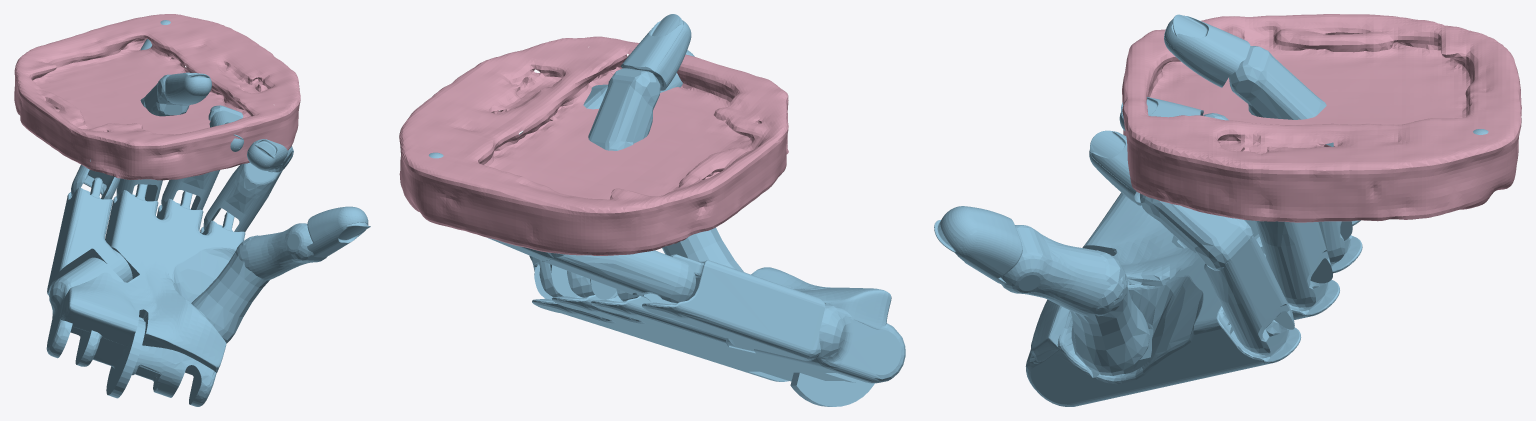
3 views of the same model, side by side, from view 1: azimuth 30°, elevation 25°; view 2: azimuth 150°, elevation 25°; view 3: azimuth 270°, elevation 25° (orthographic). The views are drawn at different scales.
Parts seen in each view (by area): view 1: hand, world; view 2: world, hand; view 3: world, hand.
Part boxes in pixels (x1,y1,x2,y2): hand: (46,20,370,406); world: (14,14,300,180); world: (399,36,788,255); hand: (428,14,905,406); world: (1122,14,1521,222); hand: (934,14,1488,406).
Bounding box in the file's own units: 0.1541 × 0.1515 × 0.1933.
